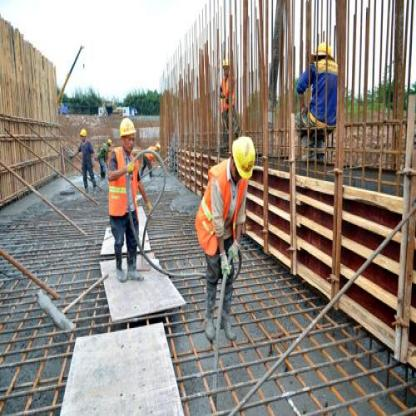helmet: (230, 132, 258, 183), (311, 43, 336, 74), (118, 116, 137, 152), (79, 125, 89, 144)
